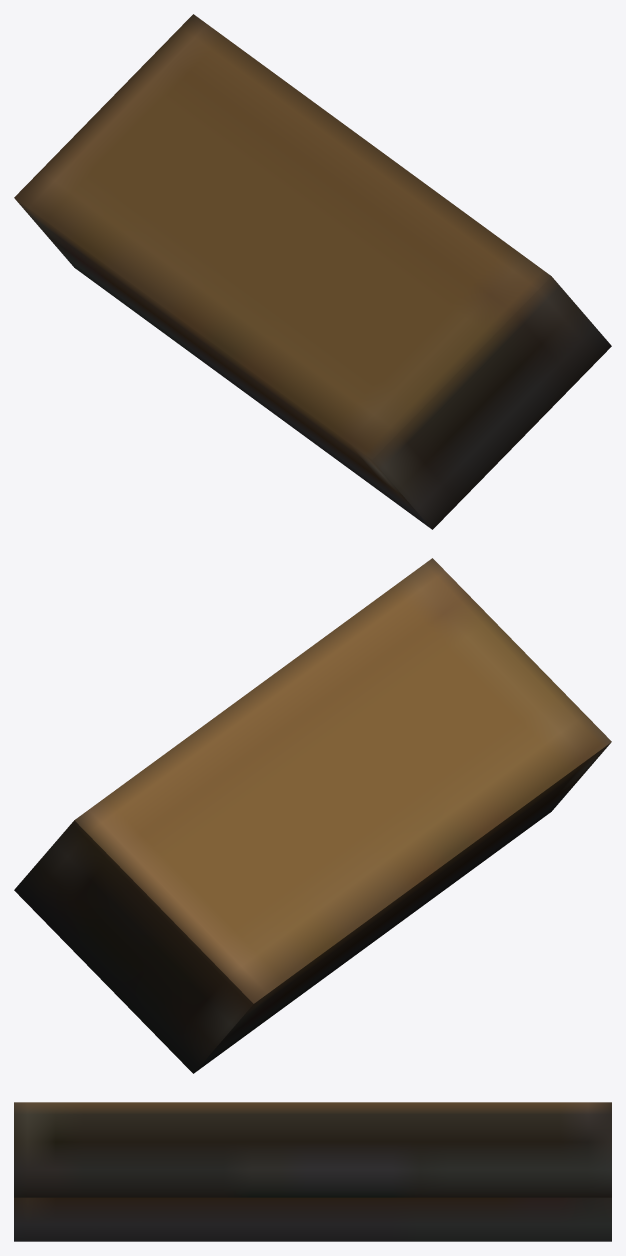
Rendered from button_02.DAE.
3 renders of one model, top to bottom at view 1: azimuth 30°, elevation 25°; view 2: azimuth 150°, elevation 25°; view 3: azimuth 270°, elevation 25°, orthographic. The views are drawn at different scales.
Visible parts, largest first — view 1: button_02; view 2: button_02; view 3: button_02.
Part boxes in pixels (x1,y1,x2,y2): button_02: (14, 14, 611, 529); button_02: (14, 558, 611, 1073); button_02: (14, 1102, 611, 1241).
Size of the model in its own units: 7.44 by 19.25 by 6.66.
